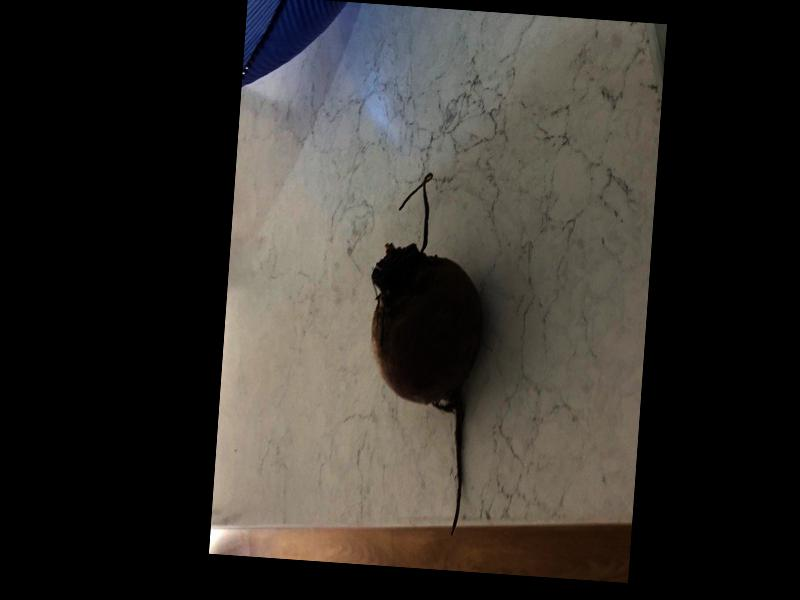Beet: (356, 170, 492, 540)
